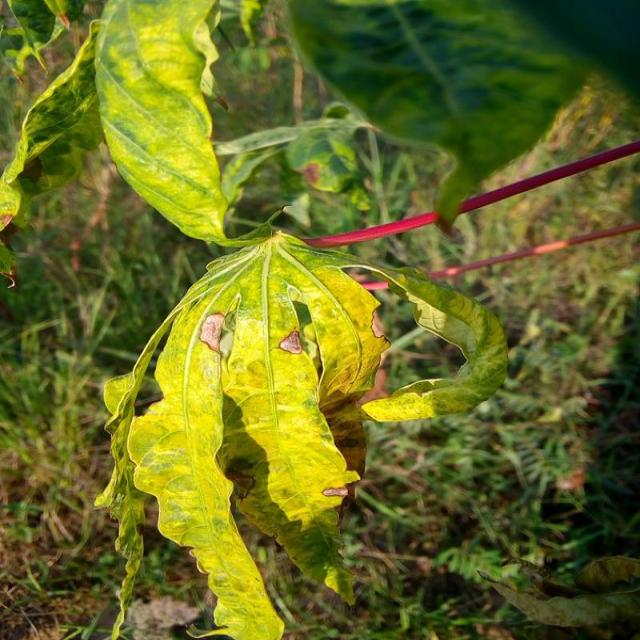cassava leaf: (102, 227, 394, 638), (285, 0, 620, 230), (91, 0, 230, 245)
